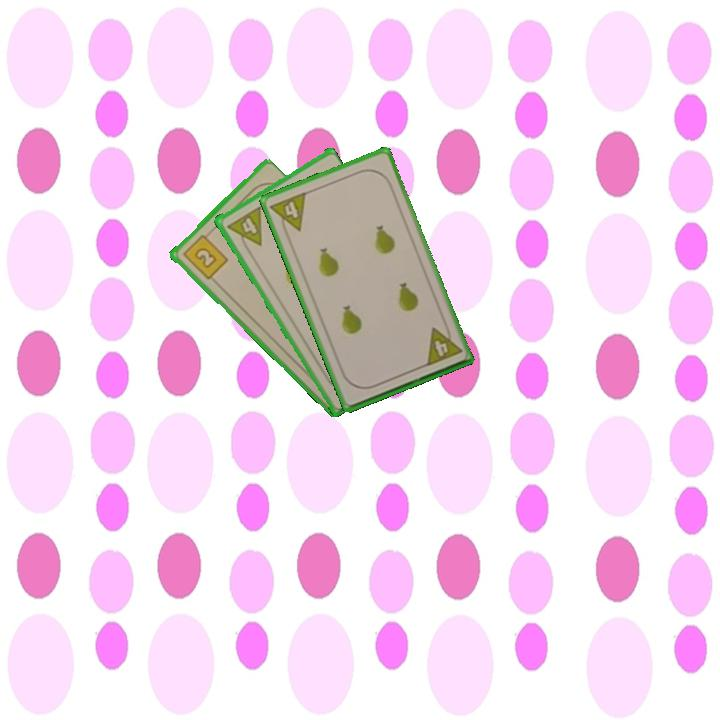2b: (179, 229, 230, 282)
4p: (266, 188, 309, 239), (223, 203, 265, 254), (422, 320, 465, 369)
